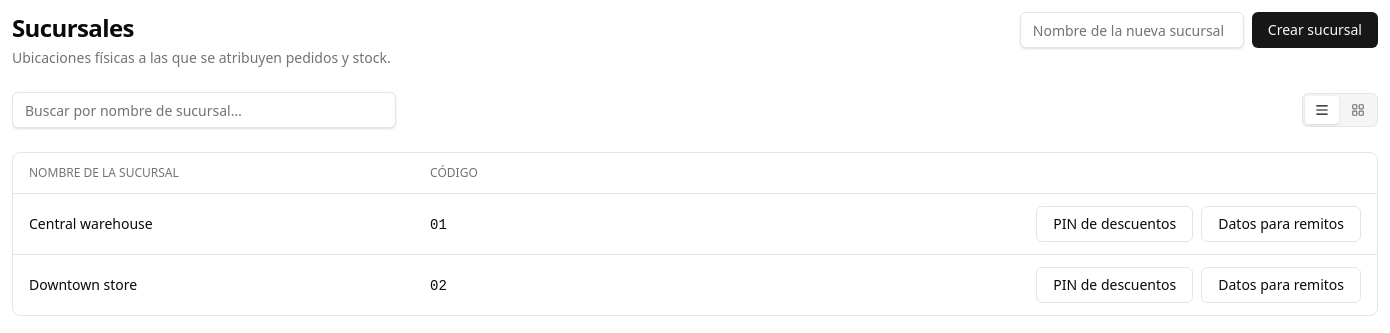
BranchesScreen › filters the listed branches client-side by name
Check: the text "Central warehouse" is shown, box [13,194,414,254]
Check: the text "Downtown store" is shown, box [13,254,414,315]
Type "downtown" into the search field named "buscar sucursales".
click(204, 110); type("downtown")  # box [12,92,396,128]
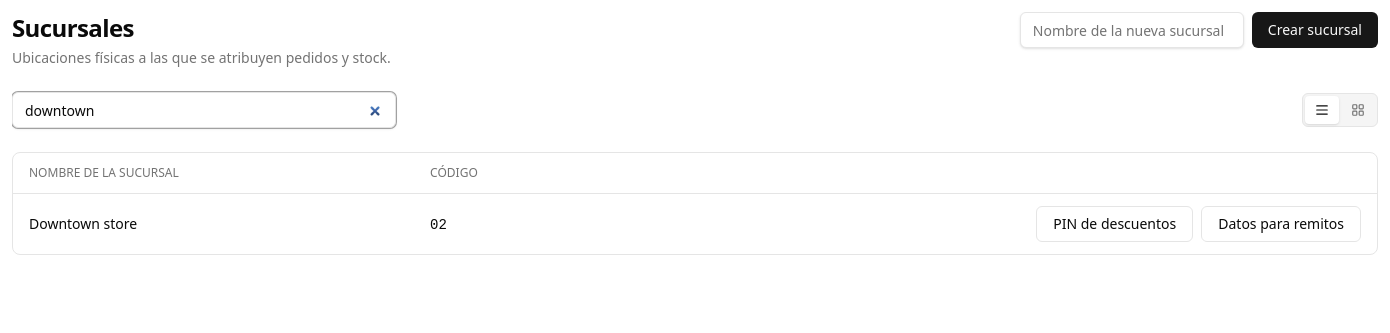
Check: the text "Downtown store" is shown, box [13,194,414,254]
Check: the text "Central warehouse" is gone
